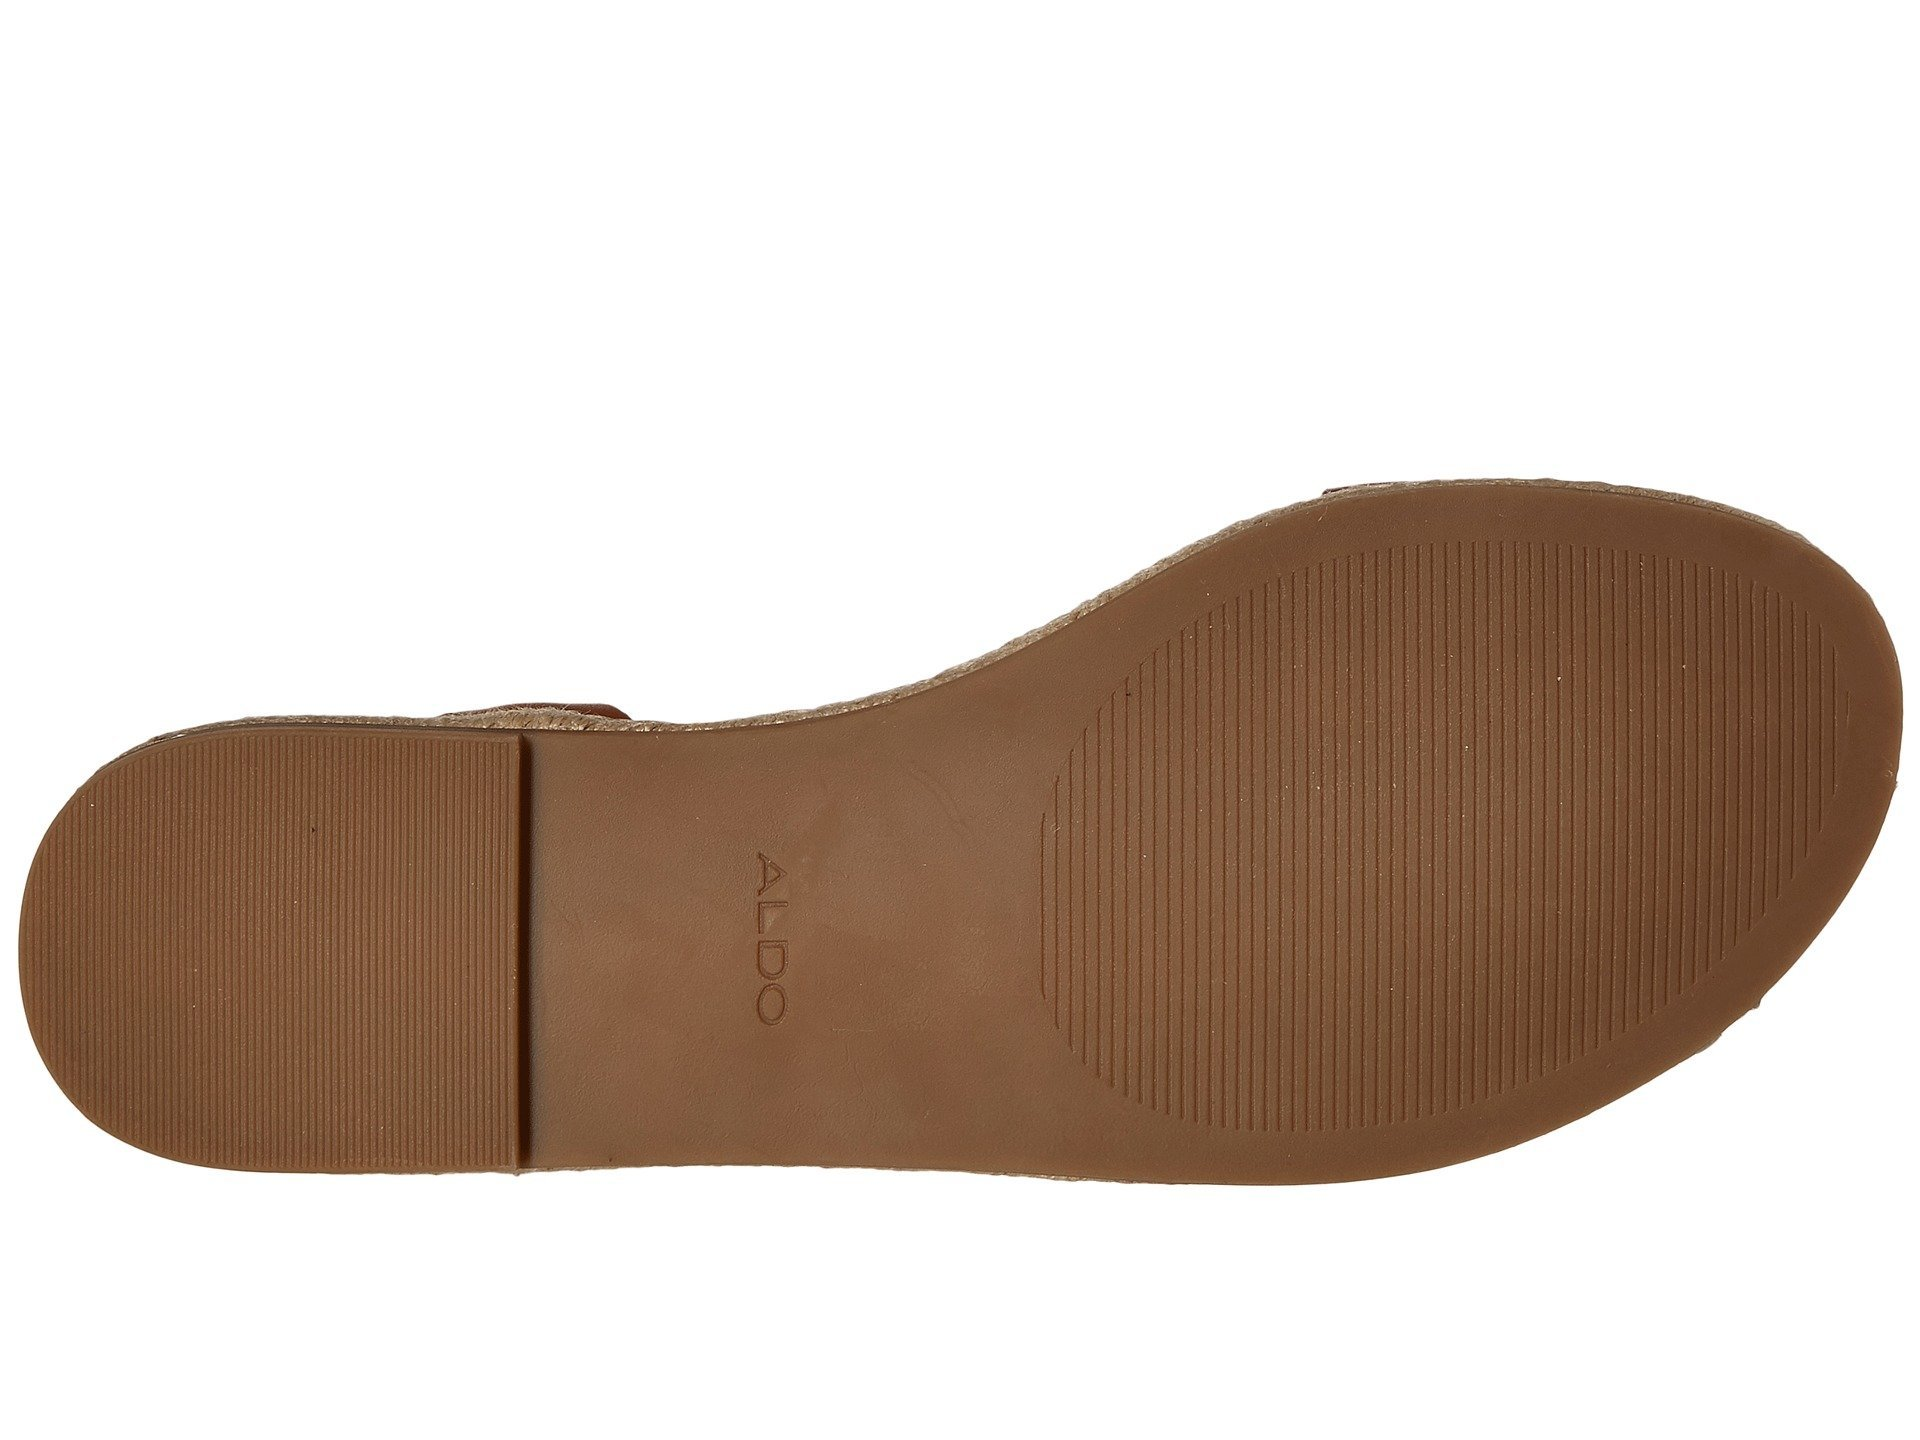circle: (646, 785, 951, 1078)
triangle: (646, 785, 951, 1078)
